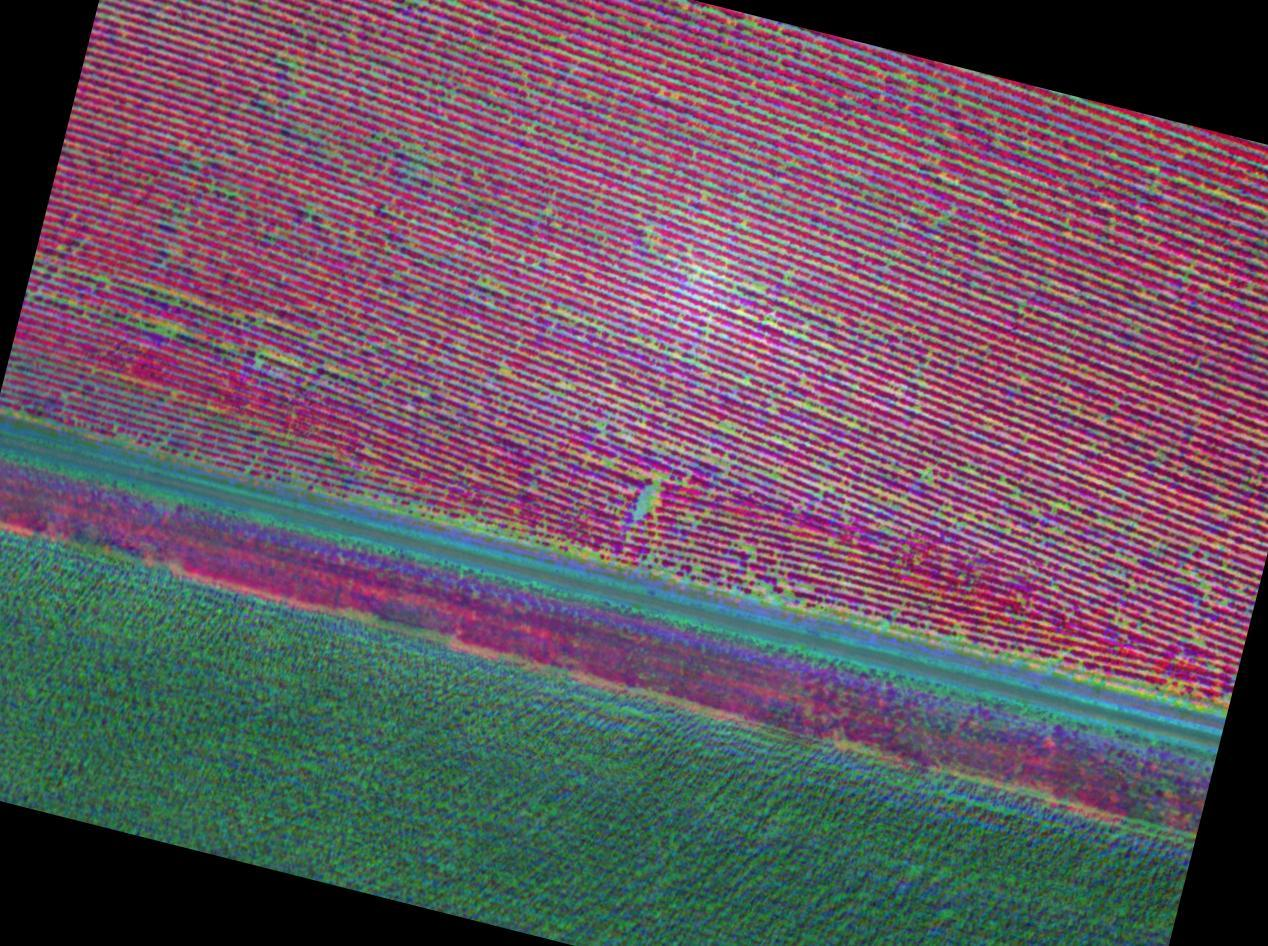dc: (755, 284, 762, 292), (649, 488, 655, 493), (635, 514, 640, 520), (386, 496, 391, 501), (703, 192, 708, 196), (290, 63, 295, 67), (100, 276, 104, 280), (641, 502, 645, 506), (468, 518, 472, 522), (222, 189, 226, 192), (70, 302, 73, 305)
